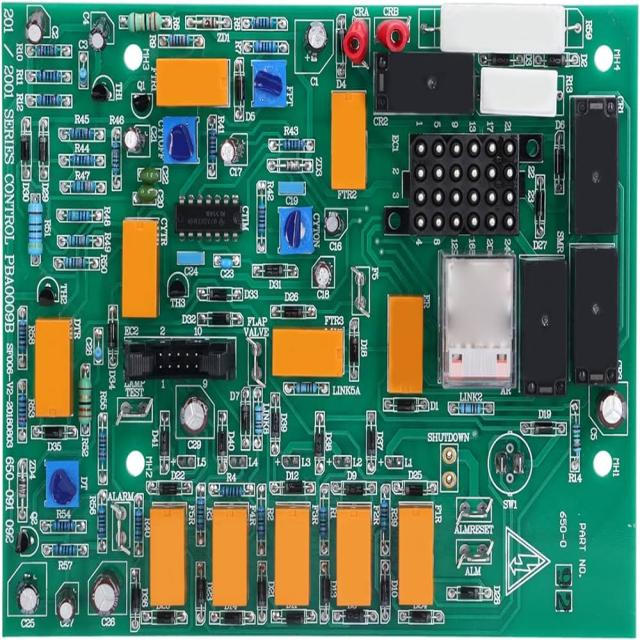pcb: (1, 2, 637, 634), (406, 131, 520, 237), (122, 336, 237, 382), (154, 56, 230, 108), (173, 191, 247, 241)
